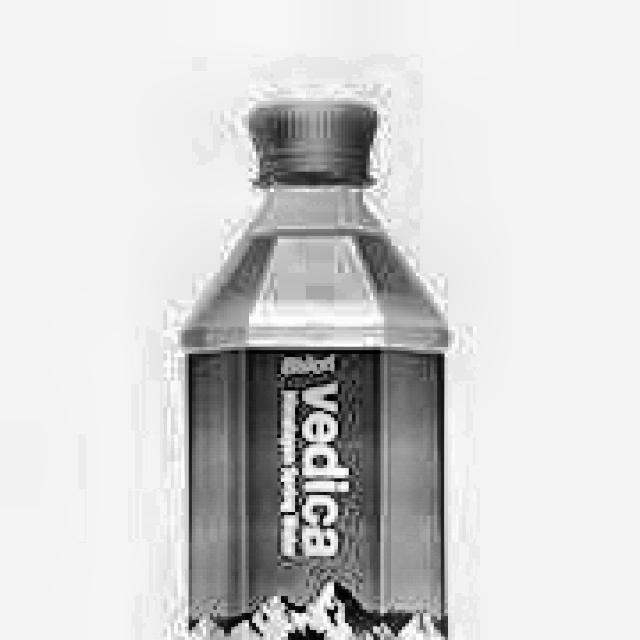bottle: (174, 98, 458, 640)
